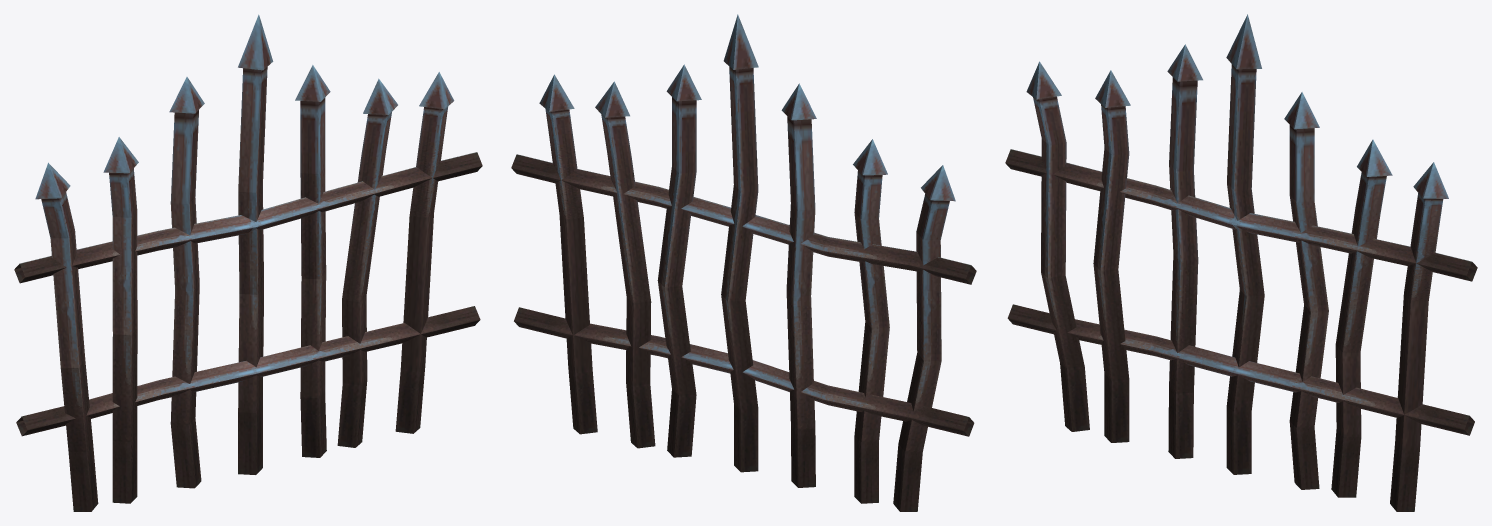
File: stemple_door_01.fbx
The picture shows the model from 3 angles, left to right: view 1: azimuth 30°, elevation 25°; view 2: azimuth 150°, elevation 25°; view 3: azimuth 330°, elevation 25°; orthographic projection.
Parts seen in each view (by area): view 1: obj0.103; view 2: obj0.103; view 3: obj0.103.
Boxes of the visible parts, x1,y1,x2,y2 form: obj0.103: [14, 14, 482, 511]; obj0.103: [511, 14, 976, 511]; obj0.103: [1005, 14, 1477, 511].
Bounding box in the file's own units: 4.25 × 4.04 × 0.3526.
